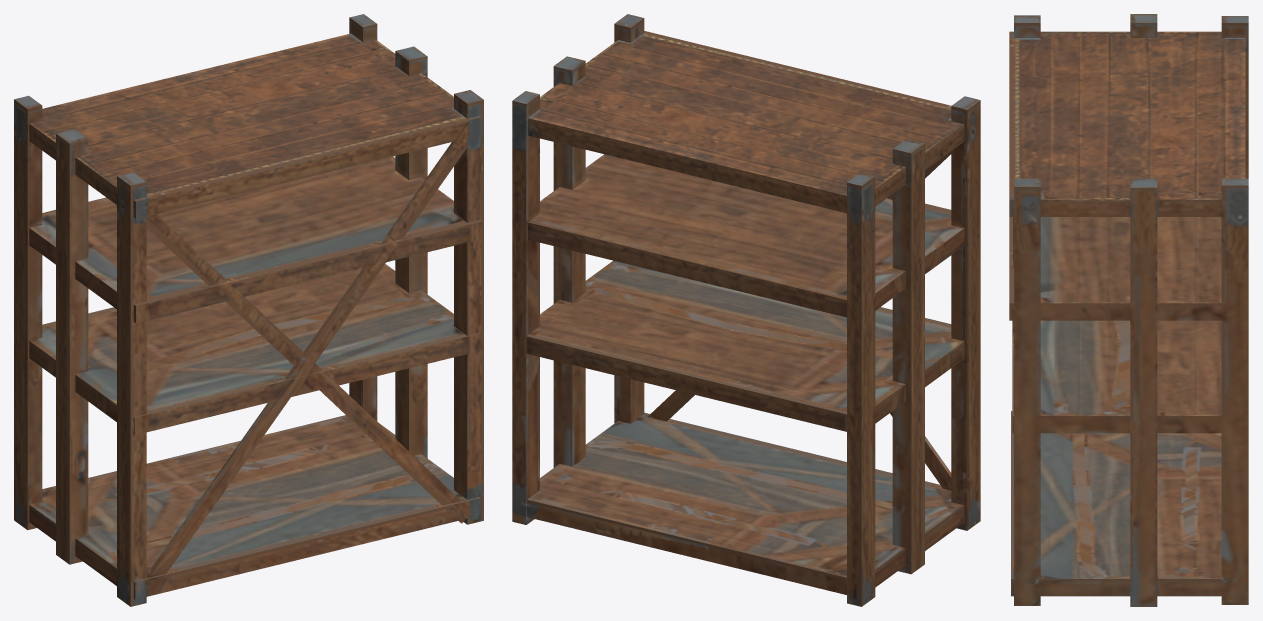
File: StorageDrawer.fbx
3 views of the same model, side by side, from view 1: azimuth 30°, elevation 25°; view 2: azimuth 150°, elevation 25°; view 3: azimuth 270°, elevation 25° (orthographic).
Visible parts, largest first — view 1: StorageDrawer_Low; view 2: StorageDrawer_Low; view 3: StorageDrawer_Low.
Boxes of the visible parts, x1,y1,x2,y2 form: StorageDrawer_Low: (14, 14, 483, 606); StorageDrawer_Low: (512, 14, 980, 606); StorageDrawer_Low: (1009, 14, 1248, 606).
Size of the model in its own units: 1.79 by 2.02 by 1.04.
